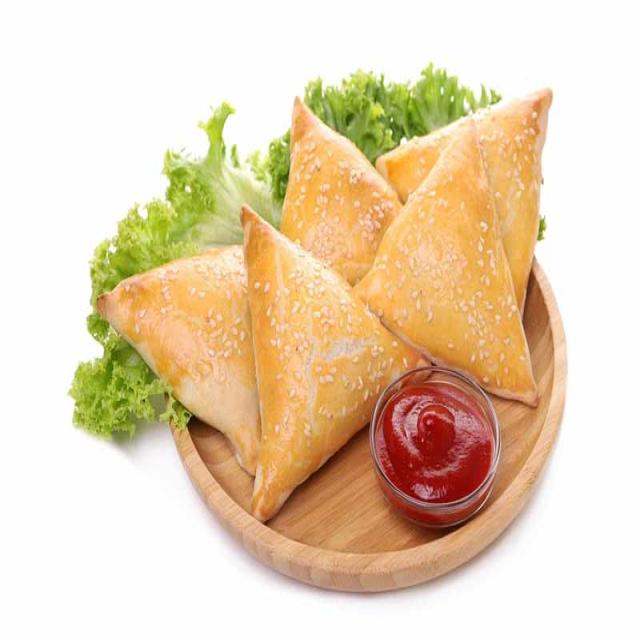SAMOSA: (98, 80, 555, 525)
